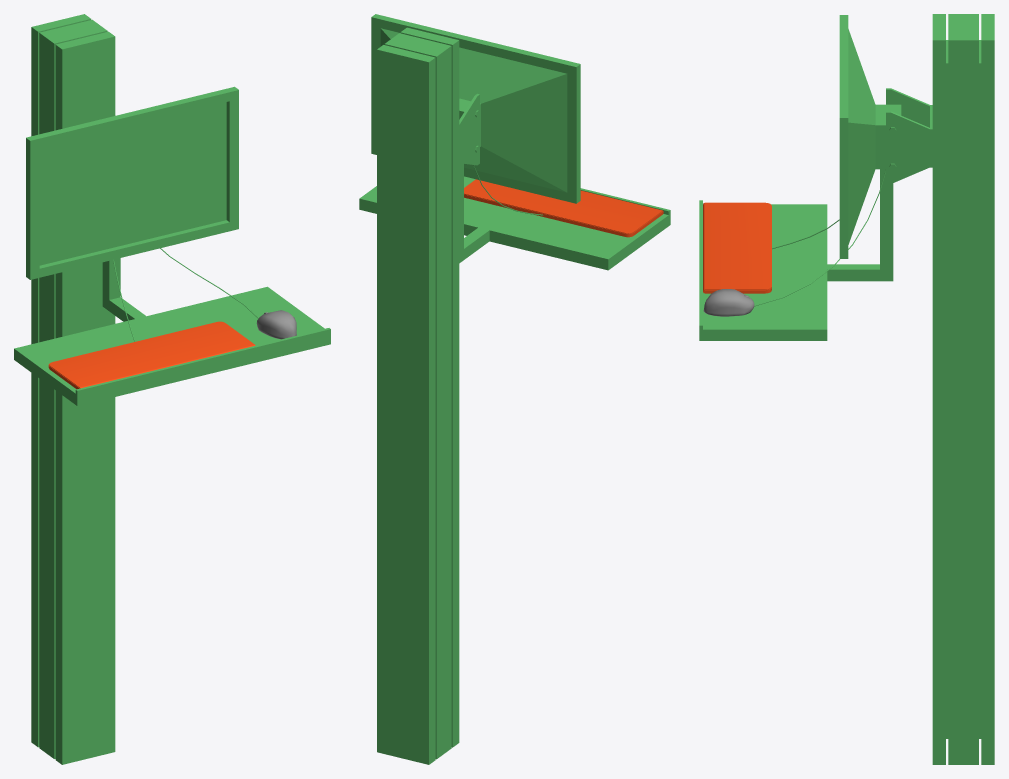
Rendered from ordinateur.FBX.
3 renders of one model, left to right at view 1: azimuth 30°, elevation 25°; view 2: azimuth 150°, elevation 25°; view 3: azimuth 270°, elevation 25°, orthographic. The views are drawn at different scales.
Parts seen in each view (by area): view 1: ordinateur, poteau, clavier, souris; view 2: poteau, ordinateur, clavier; view 3: poteau, ordinateur, clavier, souris.
Boxes of the visible parts, box(x1,y1,x2,y2) form: ordinateur: box(14, 86, 330, 405); poteau: box(31, 14, 115, 764); clavier: box(48, 321, 255, 389); souris: box(256, 310, 296, 339); poteau: box(377, 27, 479, 764); ordinateur: box(359, 14, 670, 270); clavier: box(464, 179, 663, 237); poteau: box(886, 14, 994, 764); ordinateur: box(699, 15, 901, 340); clavier: box(703, 202, 771, 293); souris: box(703, 289, 754, 316).
Bounding box in the file's own units: 26.28 × 70.87 × 26.19.
